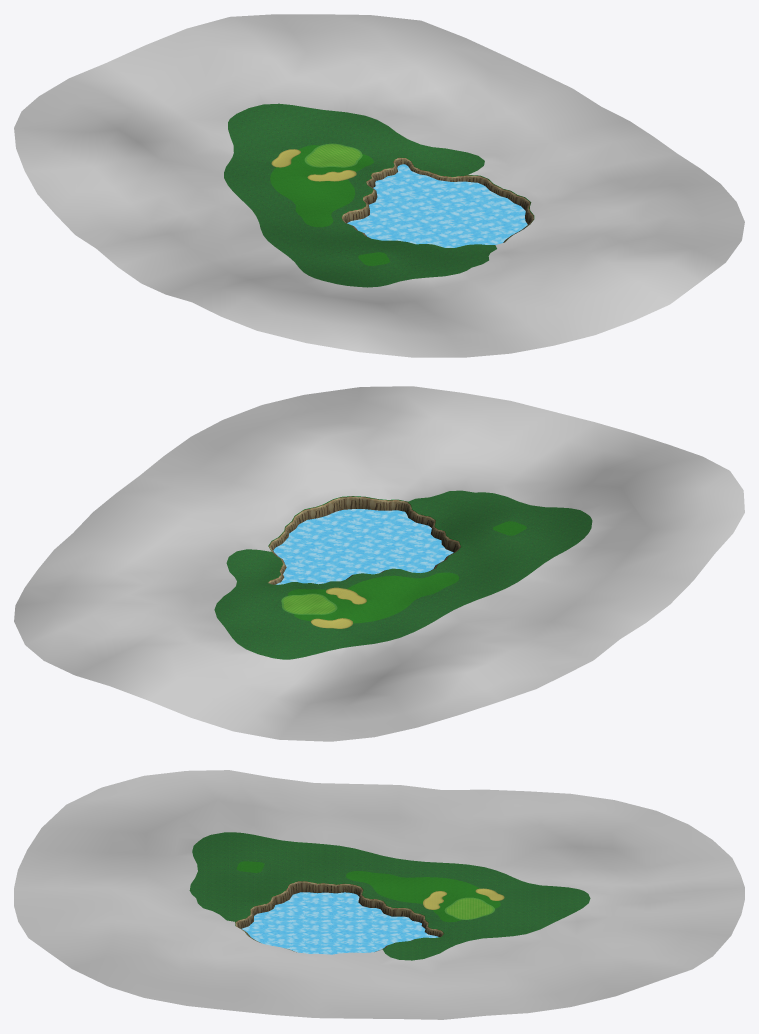
File: glf_map_fc3__glf_map_fc3.glb
3 renders of one model, top to bottom at view 1: azimuth 30°, elevation 25°; view 2: azimuth 150°, elevation 25°; view 3: azimuth 270°, elevation 25°, orthographic. The views are drawn at different scales.
Visible parts, largest first — view 1: polygon6, polygon7, polygon9, polygon3, polygon5, polygon4, polygon0; view 2: polygon6, polygon7, polygon9, polygon3, polygon5, polygon4, polygon0; view 3: polygon6, polygon7, polygon9, polygon3, polygon5, polygon4, polygon0.
Boxes of the visible parts, x1,y1,x2,y2 form: polygon6: (14,14,744,357); polygon7: (224,103,496,287); polygon9: (347,164,527,247); polygon3: (270,145,389,265); polygon5: (341,157,534,244); polygon4: (306,144,360,166); polygon0: (271,149,356,181); polygon6: (14,386,744,741); polygon7: (214,490,592,659); polygon9: (273,509,453,584); polygon3: (287,521,526,623); polygon5: (267,496,461,584); polygon4: (283,594,335,613); polygon0: (311,587,366,628); polygon6: (14,770,744,1019); polygon7: (189,832,590,960); polygon9: (242,892,438,954); polygon3: (236,861,500,922); polygon5: (235,880,444,952); polygon4: (446,898,492,919); polygon0: (423,888,504,909).
Bounding box in the file's own units: 3088 × 193 × 4076.
8 materials, 7 textured.
